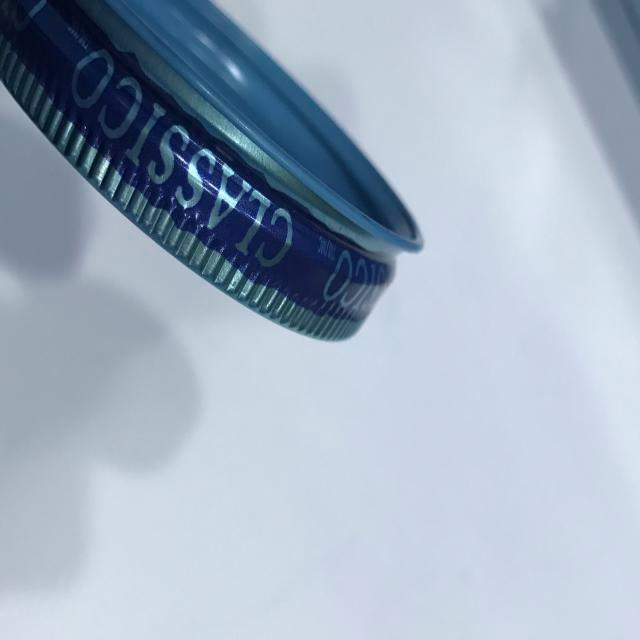metal: (0, 1, 429, 351)
